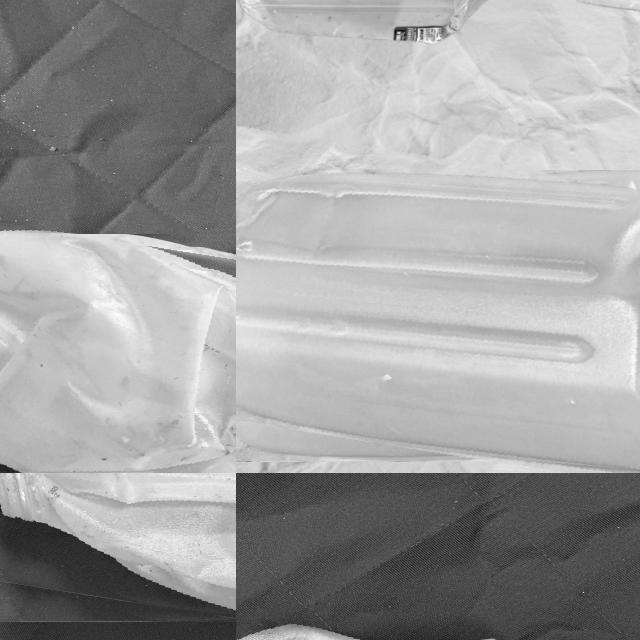milk-jug: (236, 147, 640, 473), (0, 213, 236, 473), (0, 473, 236, 640), (236, 0, 511, 44)
